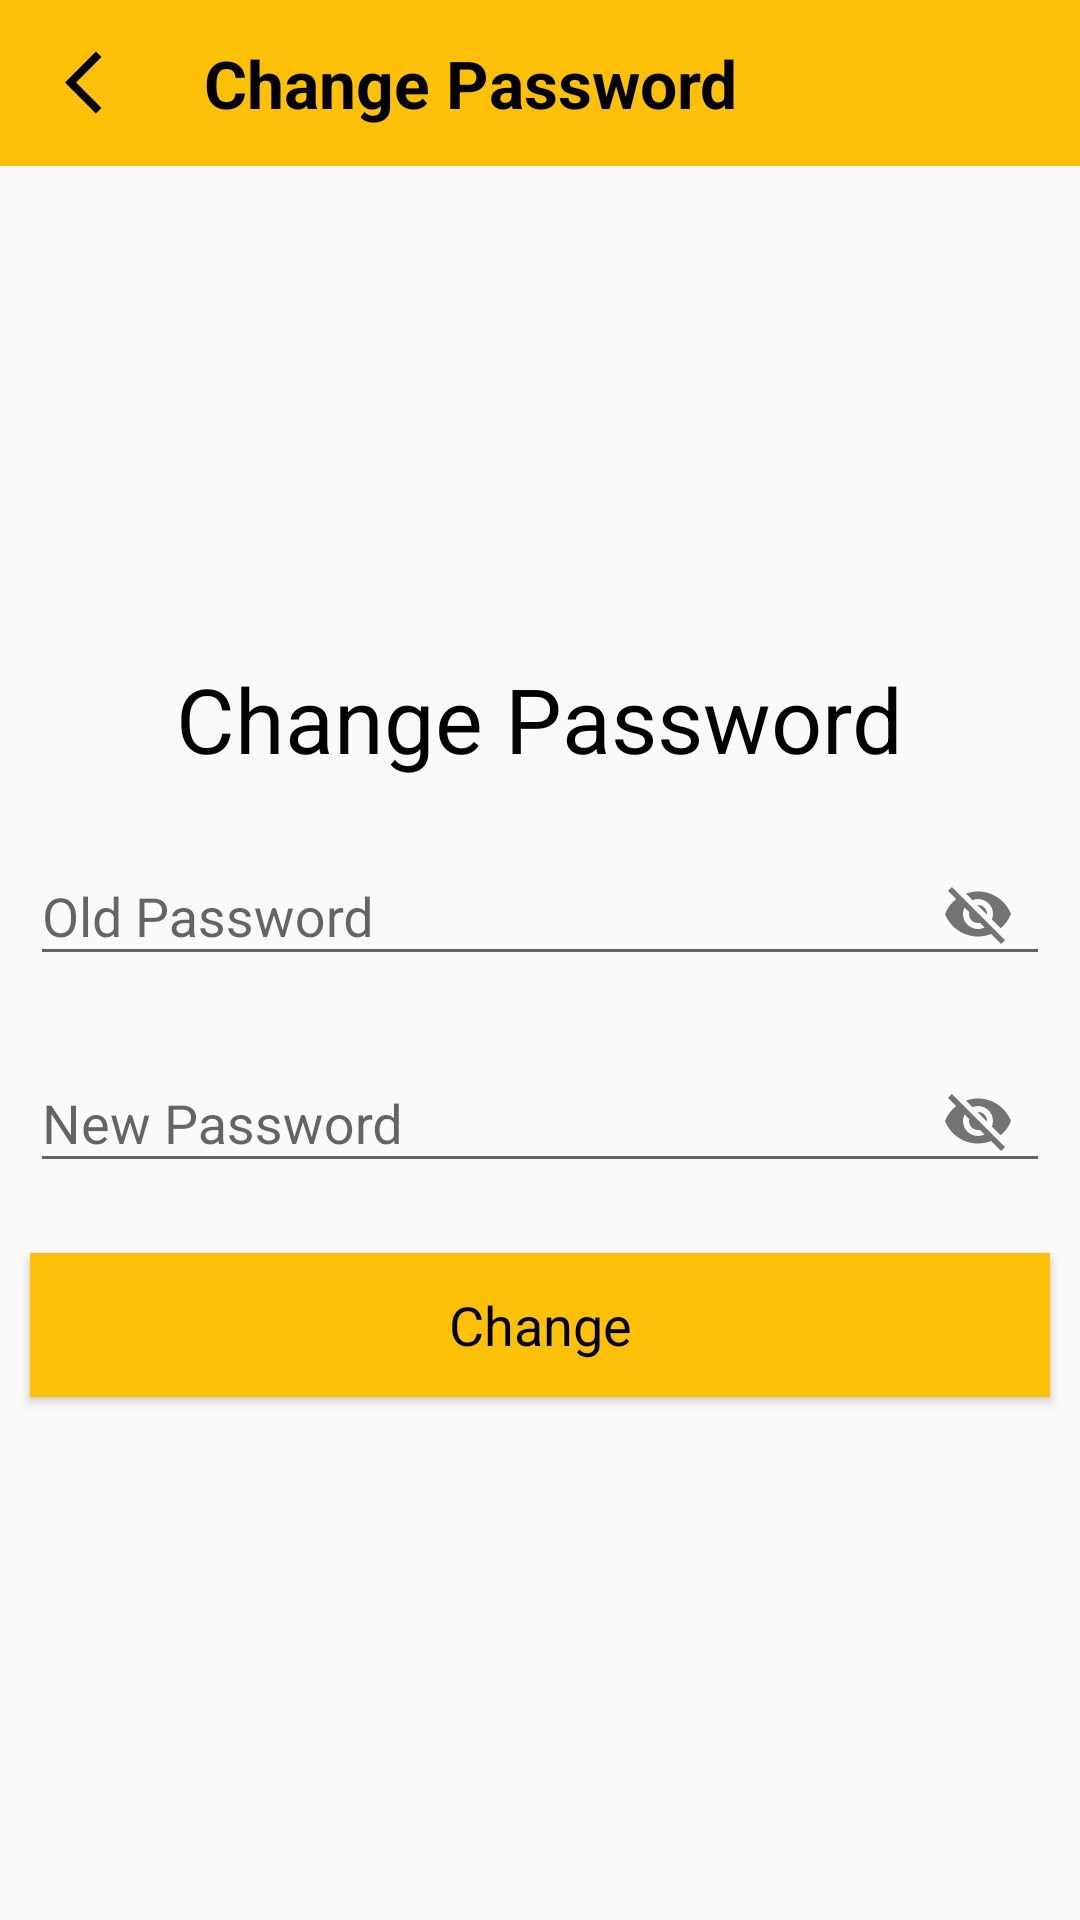

Screen size 1080*1920. Icon name, then its box in pixels as [left=x1, top=y1, right=x2, bottom=y2]:
arrow back: [left=65, top=51, right=102, bottom=114]
